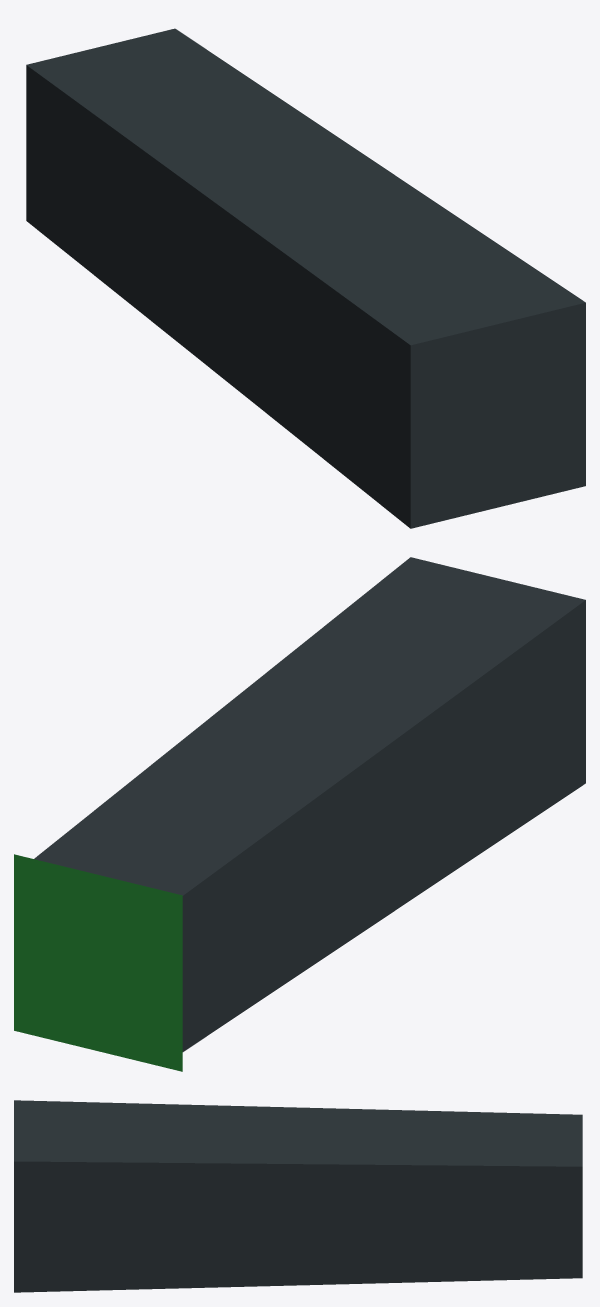
3 views of the same model, one above another, from view 1: azimuth 30°, elevation 25°; view 2: azimuth 150°, elevation 25°; view 3: azimuth 270°, elevation 25° (orthographic). The views are drawn at different scales.
Visible parts, largest first — view 1: mount; view 2: mount; view 3: mount.
Boxes of the visible parts, <box> form: mount: <box>26,28,585,528</box>; mount: <box>14,557,585,1071</box>; mount: <box>14,1100,582,1292</box>.
Size of the model in its own units: 1.27 by 1.27 by 5.03.
